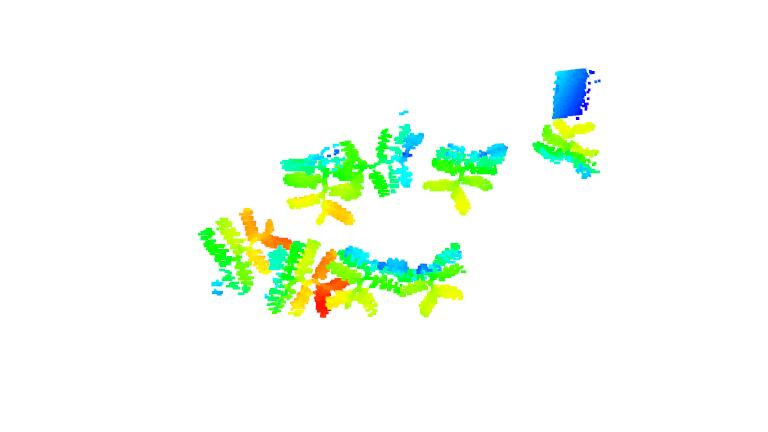chickpea: (195, 207, 295, 296), (422, 137, 511, 215), (341, 121, 426, 202), (280, 143, 359, 227), (267, 239, 348, 319), (323, 246, 403, 317), (400, 240, 468, 316), (531, 116, 604, 181)
